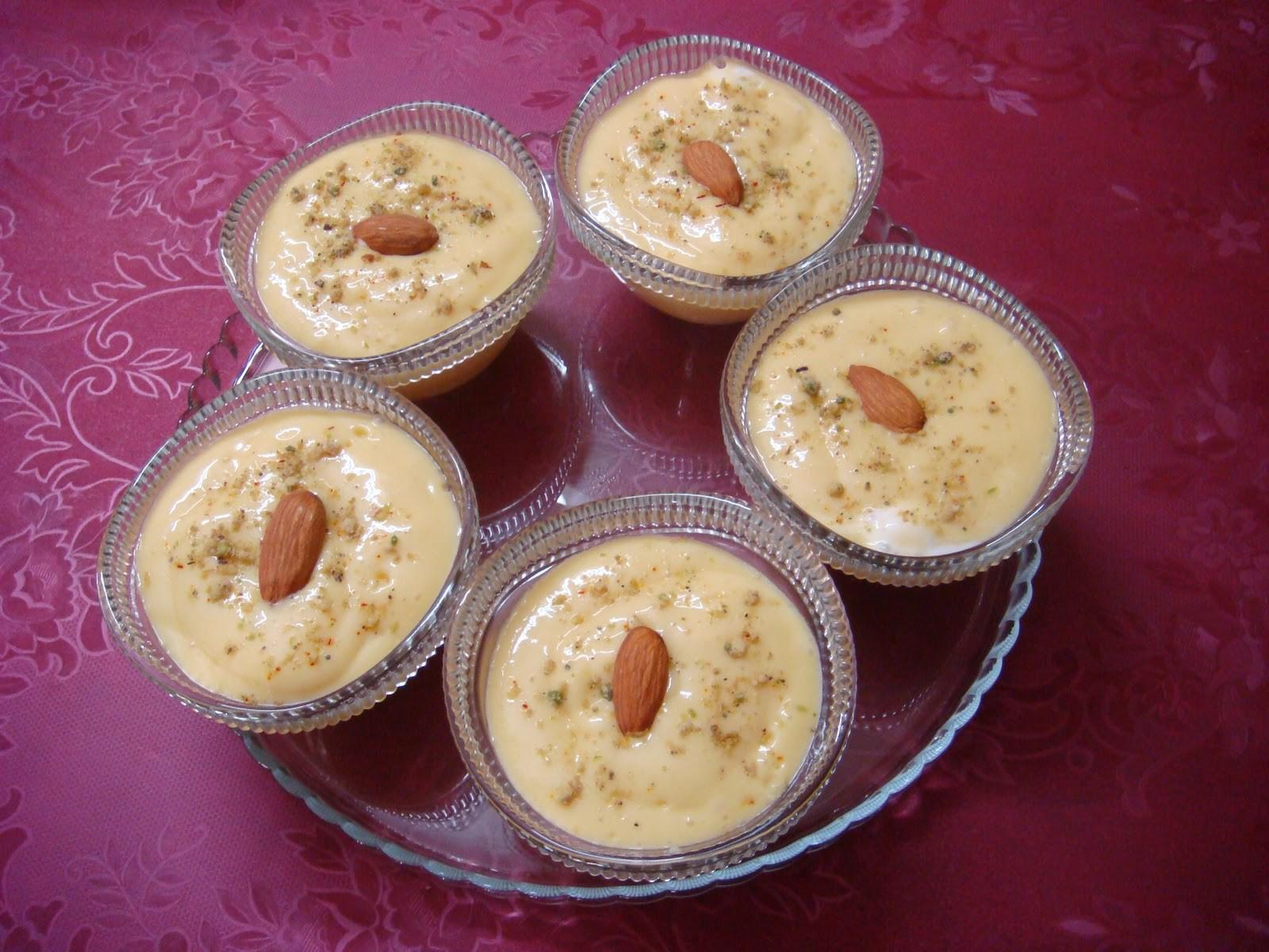Kheer: (488, 531, 826, 857), (136, 413, 447, 699), (743, 290, 1054, 553), (581, 56, 859, 326), (253, 141, 536, 402)
